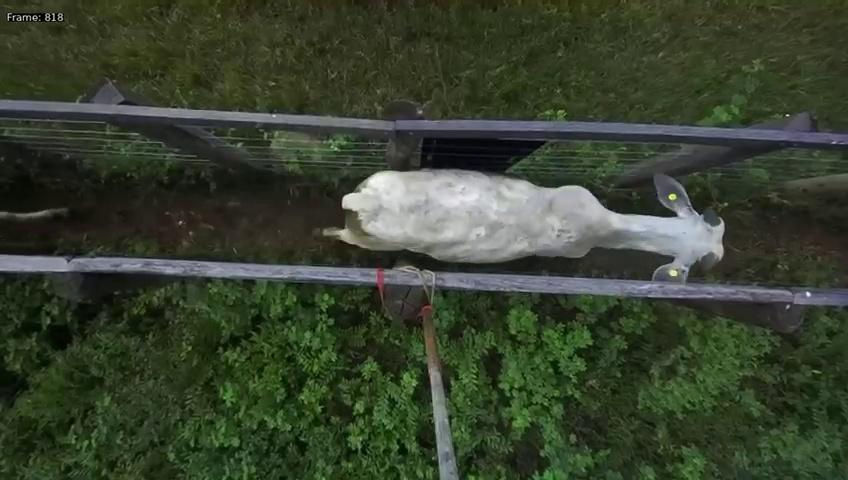cattle: (313, 143, 737, 297)
